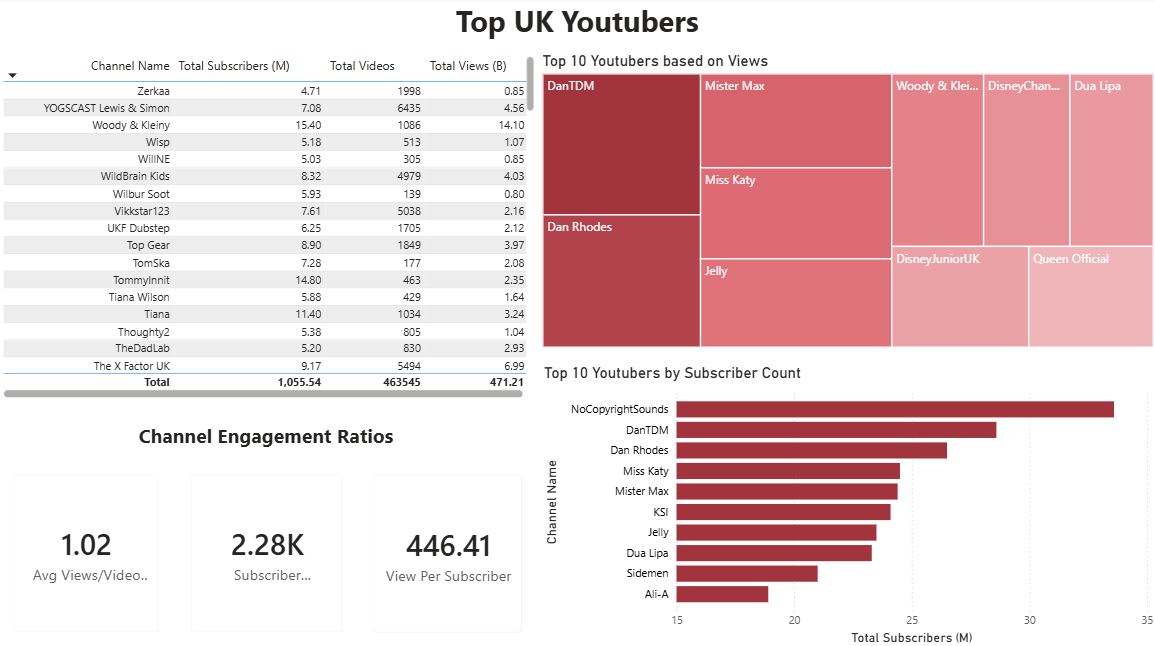

Layout of this report page (visuals, bound fields, positions):
{"tool":"powerbi","page":{"name":"Page 1","canvas":[1280,720],"ordinal":0},"visuals":[{"type":"textbox","box":[0,0,1279.4,62.4],"z":0},{"type":"tableEx","fields":{"Values":["views_uk_youtubers.channel_name","views_uk_youtubers.Total Subscribers (M)","views_uk_youtubers.Total Videos","views_uk_youtubers.Total Views (B)"]},"box":[0,60.5,597.2,387.4],"z":1000},{"type":"treemap","title":"Top 10 Youtubers based on Views","fields":{"Group":["views_uk_youtubers.channel_name"],"Values":["views_uk_youtubers.Total Views (B)"]},"box":[596.3,61.3,684.1,331.3],"z":2000},{"type":"cardVisual","fields":{"Data":["views_uk_youtubers.Avg Views/Video (M)"]},"box":[0,512.1,194.6,207.9],"z":3000},{"type":"cardVisual","fields":{"Data":["views_uk_youtubers.Subscriber Engagement Rate"]},"box":[194.6,512.1,202.2,207.9],"z":4000},{"type":"cardVisual","fields":{"Data":["views_uk_youtubers.View Per Subscriber"]},"box":[397.6,511.9,198.8,208.7],"z":5000},{"type":"clusteredBarChart","title":"Top 10 Youtubers by Subscriber Count","fields":{"Category":["views_uk_youtubers.channel_name"],"Y":["views_uk_youtubers.Total Subscribers (M)"]},"box":[598,405.8,682.5,314.7],"z":5001},{"type":"textbox","box":[126.6,464.9,340.2,47.2],"z":5002}]}

Visuals, with their boxes in screenshot pixels (x1, y1, x2, y2), scaled from the page's 1280x720 canvas onto the 1155x646 screenshot:
textbox: crop(0, 0, 1154, 56)
tableEx - views_uk_youtubers.channel_name x views_uk_youtubers.Total Subscribers (M): crop(0, 54, 539, 402)
"Top 10 Youtubers based on Views" treemap: crop(538, 55, 1154, 352)
cardVisual - views_uk_youtubers.Avg Views/Video (M): crop(0, 459, 176, 645)
cardVisual - views_uk_youtubers.Subscriber Engagement Rate: crop(176, 459, 358, 645)
cardVisual - views_uk_youtubers.View Per Subscriber: crop(359, 459, 538, 645)
"Top 10 Youtubers by Subscriber Count" clusteredBarChart: crop(540, 364, 1154, 645)
textbox: crop(114, 417, 421, 459)
